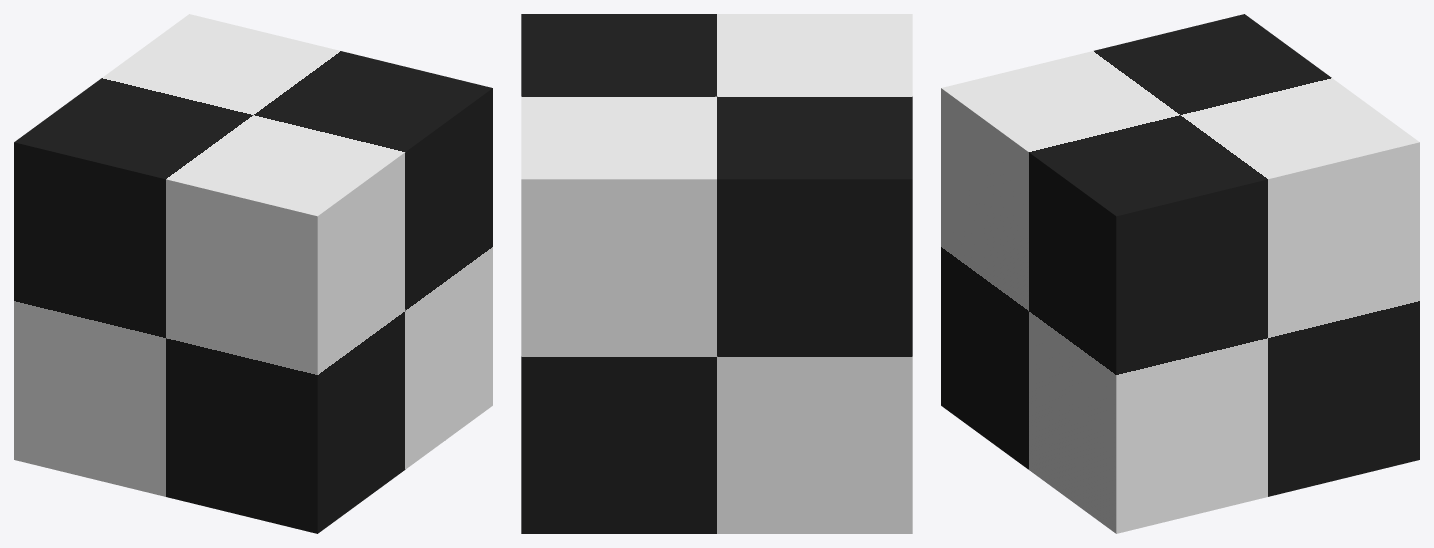
Rendered from crate.fbx.
The picture shows the model from 3 angles, left to right: view 1: azimuth 30°, elevation 25°; view 2: azimuth 150°, elevation 25°; view 3: azimuth 270°, elevation 25°; orthographic projection. The views are drawn at different scales.
Parts seen in each view (by area): view 1: Crate; view 2: Crate; view 3: Crate.
Boxes of the visible parts, x1,y1,x2,y2 form: Crate: (14, 14, 492, 533); Crate: (521, 14, 912, 533); Crate: (941, 14, 1419, 533).
Bounding box in the file's own units: 137 × 100 × 137.
